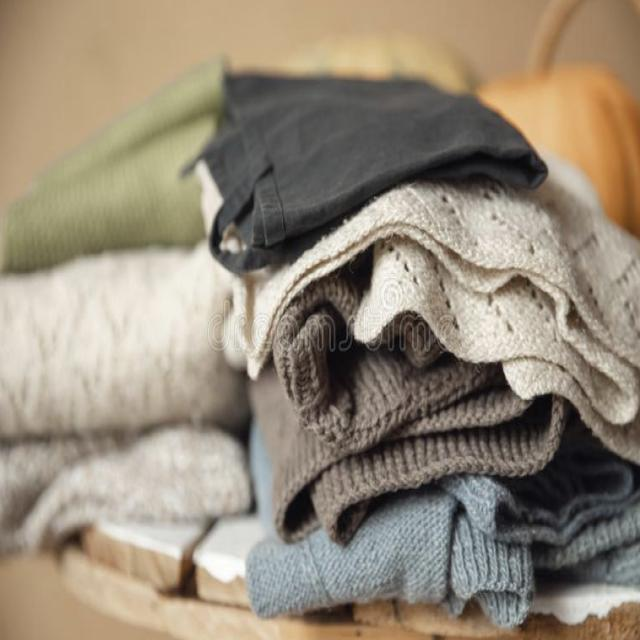clothes: (0, 273, 245, 556), (224, 68, 514, 239), (0, 77, 231, 275)
